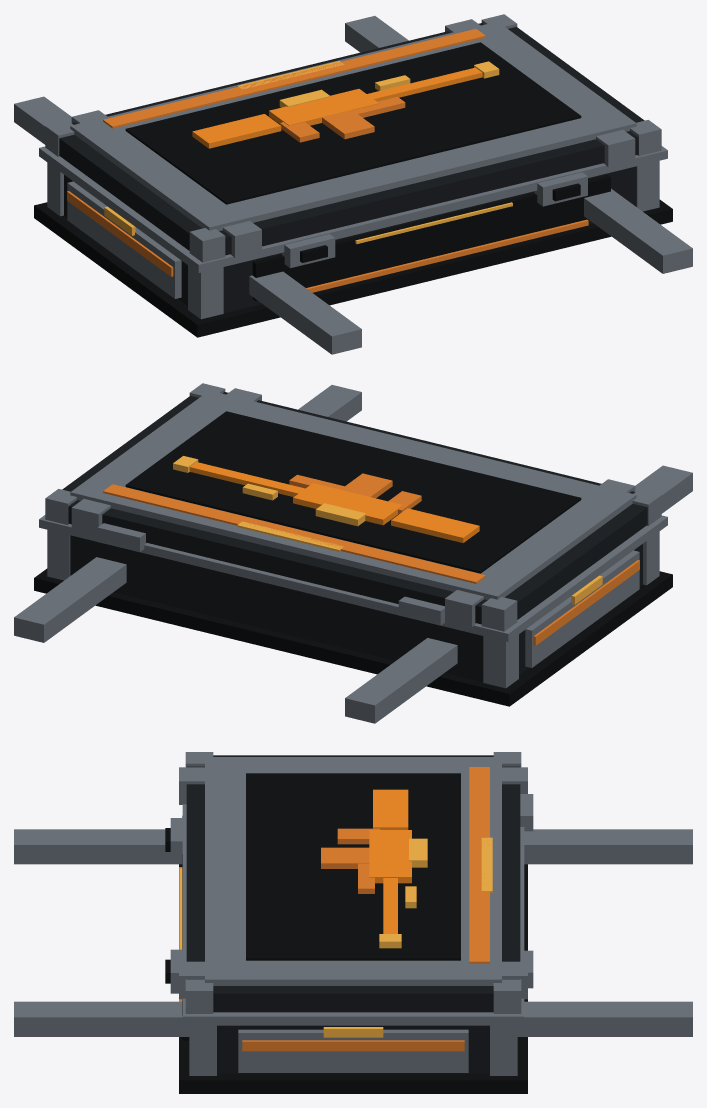
File: weaponcrate.obj
3 views of the same model, one above another, from view 1: azimuth 30°, elevation 25°; view 2: azimuth 150°, elevation 25°; view 3: azimuth 270°, elevation 25° (orthographic). The views are drawn at different scales.
Parts seen in each view (by area): view 1: weaponcrate_lid.004, weaponcrate_body.004; view 2: weaponcrate_lid.004, weaponcrate_body.004; view 3: weaponcrate_lid.004, weaponcrate_body.004.
Boxes of the visible parts, left/top/right/bottom form: weaponcrate_lid.004: left=45, top=14, right=661, bottom=262; weaponcrate_body.004: left=14, top=16, right=692, bottom=354; weaponcrate_lid.004: left=45, top=383, right=661, bottom=631; weaponcrate_body.004: left=14, top=385, right=692, bottom=723; weaponcrate_lid.004: left=179, top=752, right=533, bottom=1013; weaponcrate_body.004: left=14, top=804, right=692, bottom=1093.
Bounding box in the file's own units: 1.58 × 0.3306 × 1.83.
